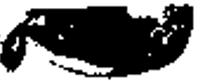Basket: (1, 6, 200, 79)
